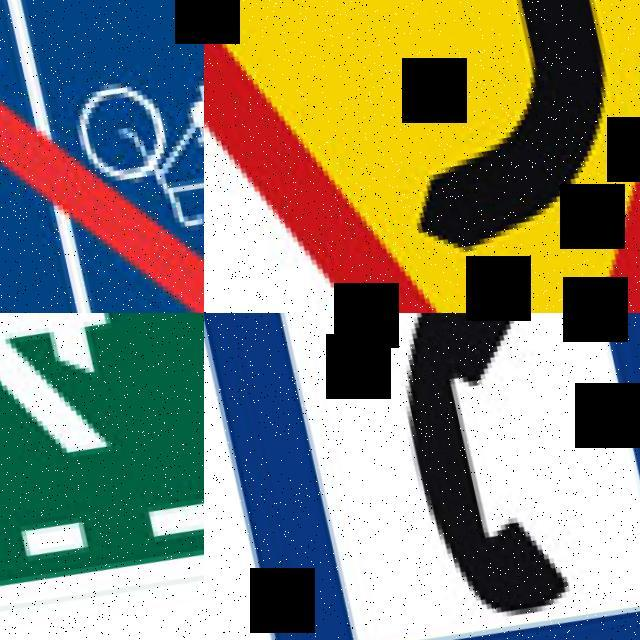137: (204, 0, 640, 313)
56: (204, 313, 640, 640)
Road number sign: (0, 313, 204, 640)
no entry for bicycles and humans: (0, 0, 204, 313)
